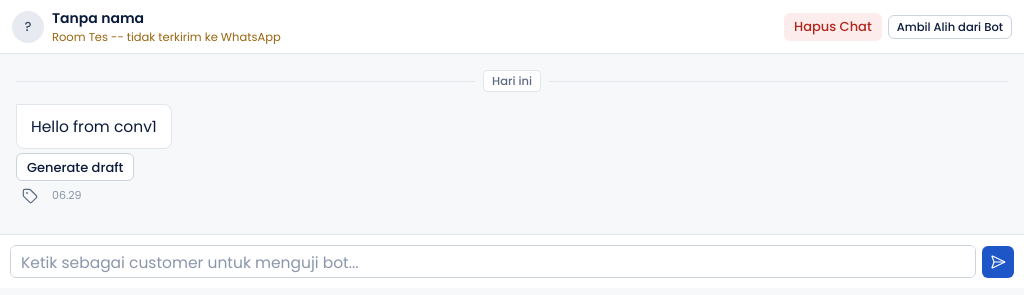
ThreadView clear-chat button › asks for confirmation, then POSTs to /clear and empties the message list on confirm
Expected: the text "Hello from conv1" is shown, [31,115,157,138]
Click the button "Hapus Chat": click(833, 26) [784,12,882,40]
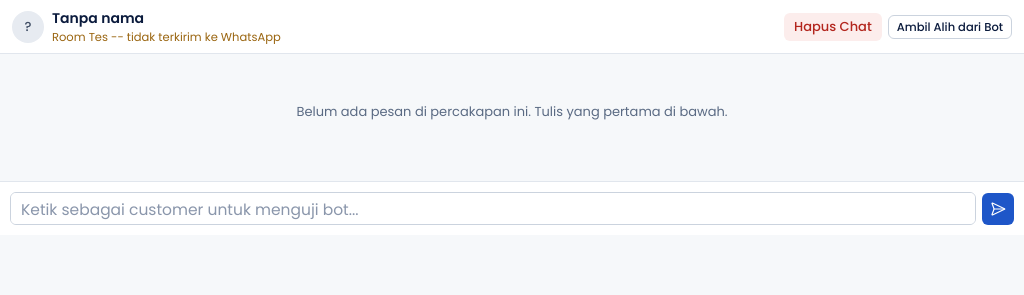
Expected: the text "Hello from conv1" is gone
